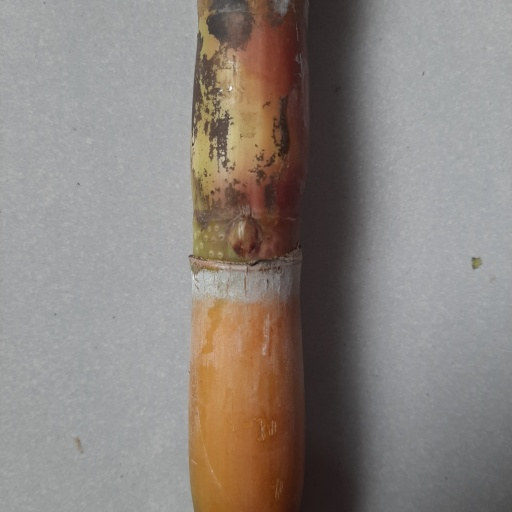Bud: (227, 217, 263, 263)
